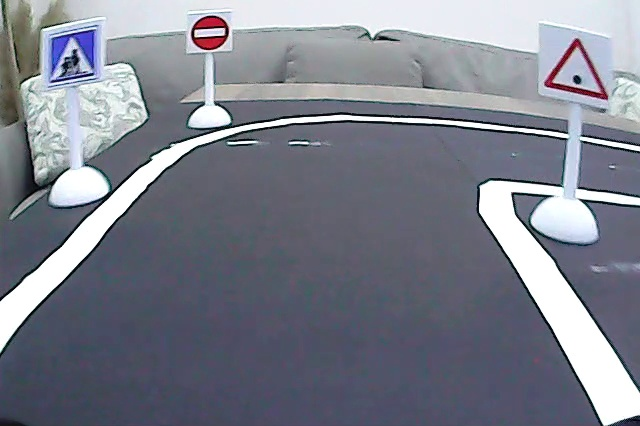do not enter: (189, 12, 231, 54)
green light: (541, 32, 614, 105)
school crossing: (44, 26, 101, 86)
